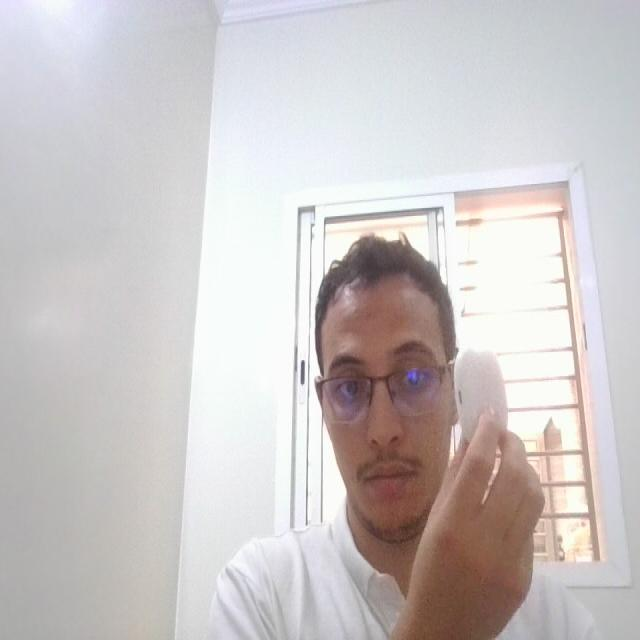airpods: (453, 342, 516, 462)
